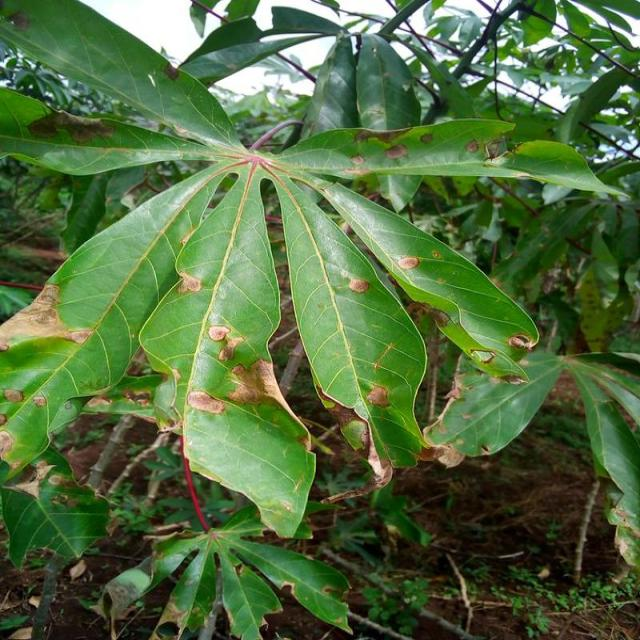cassava leaf: (1, 2, 615, 549), (138, 159, 316, 539), (265, 160, 429, 481)
